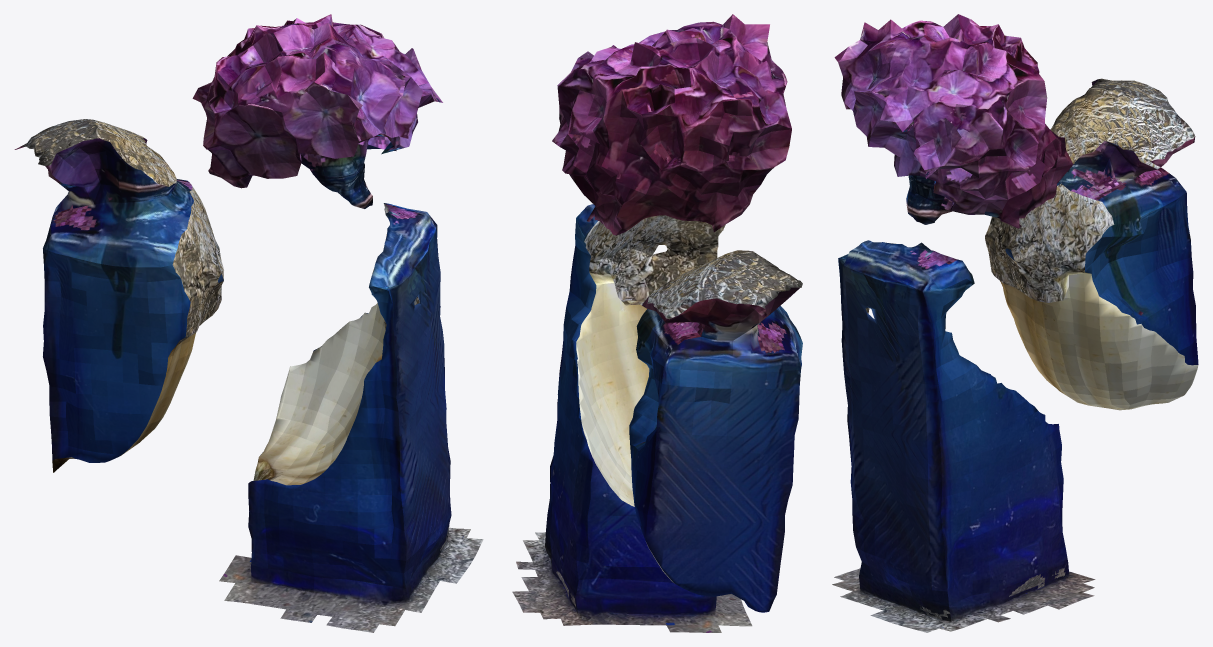
The model's file is Haig-Squash_duo.glb.
3 views of the same model, side by side, from view 1: azimuth 30°, elevation 25°; view 2: azimuth 150°, elevation 25°; view 3: azimuth 270°, elevation 25° (orthographic). The views are drawn at different scales.
Parts seen in each view (by area): view 1: Haig_RETOP.001, Haig_RETOP.003; view 2: Haig_RETOP.001, Haig_RETOP.003; view 3: Haig_RETOP.001, Haig_RETOP.003.
Boxes of the visible parts, <box> form: Haig_RETOP.001: <box>192,14,483,632</box>; Haig_RETOP.003: <box>14,119,223,472</box>; Haig_RETOP.001: <box>512,14,791,632</box>; Haig_RETOP.003: <box>629,250,802,612</box>; Haig_RETOP.001: <box>832,14,1095,632</box>; Haig_RETOP.003: <box>985,78,1198,410</box>.
Size of the model in its own units: 2.87 by 4.38 by 2.64.
Materials: 2 (2 with a texture image).
